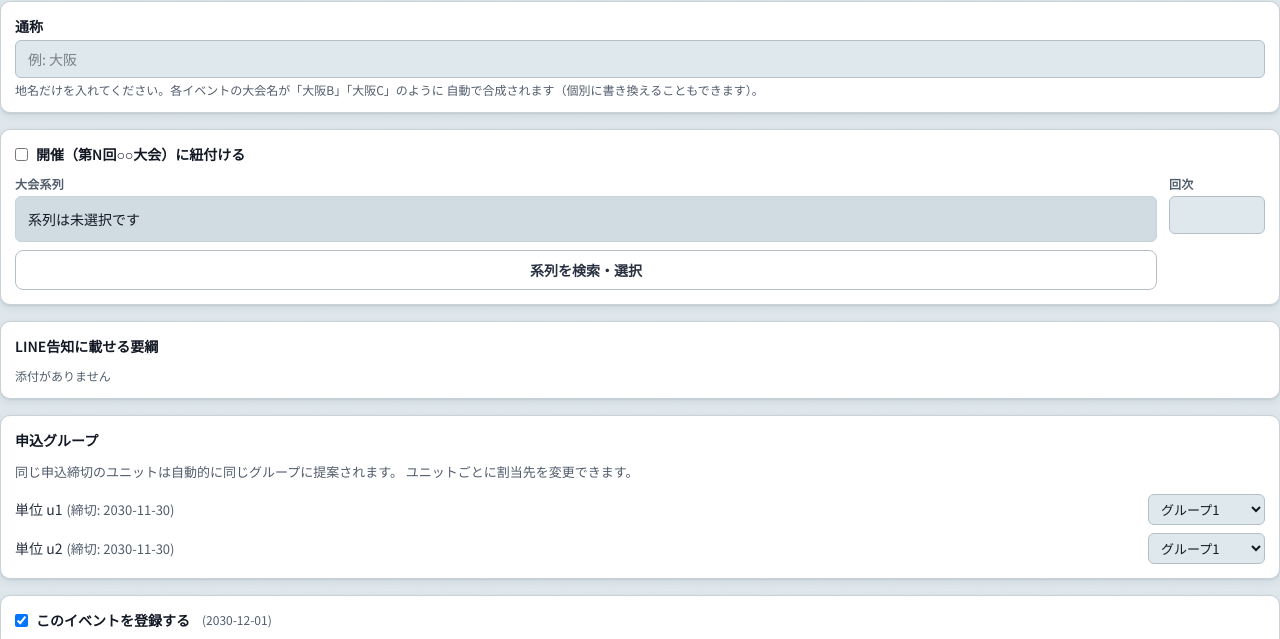
Test: ApprovalForm — 通称欄（AC-15 / AC-16 / AC-17） › AC-15: 通称を入れると各単位の大会名が合成される
In the field labelled "通称": (640, 59) [15,40,1265,78], type "大阪"
(page scrolled)
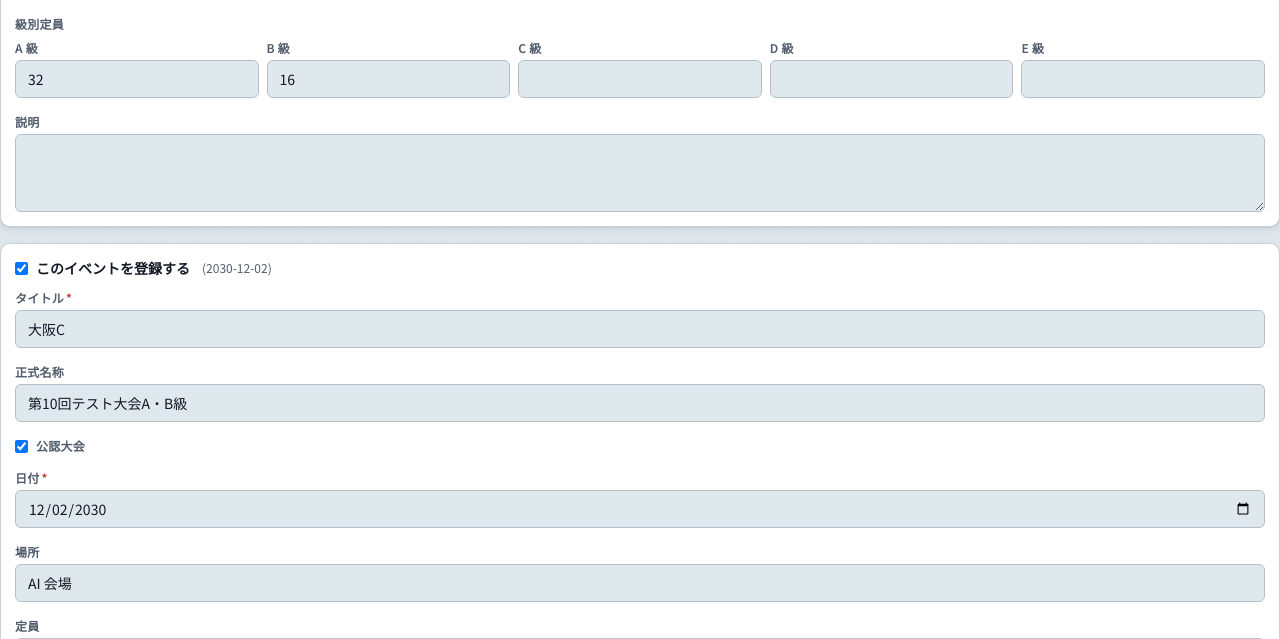
Result: the 2nd field named "u2__title" holds "大阪C" at [15,310,1265,348]
